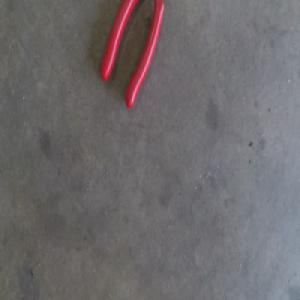Pliers: (99, 0, 165, 106)
